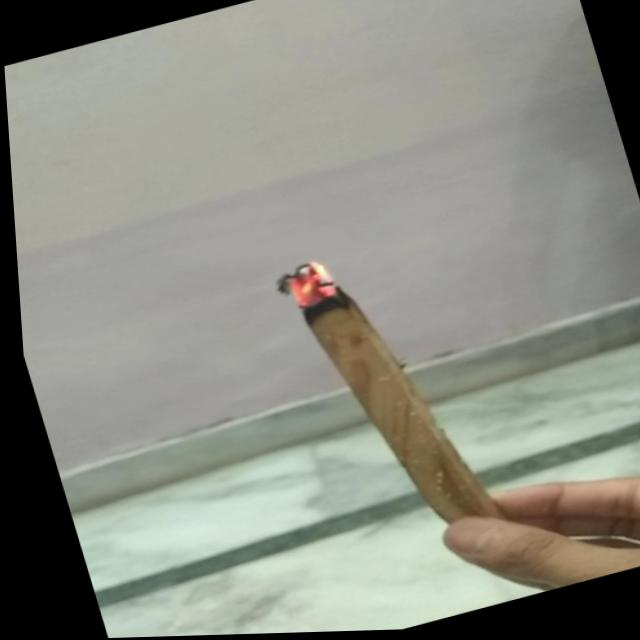fire: (258, 251, 363, 321)
